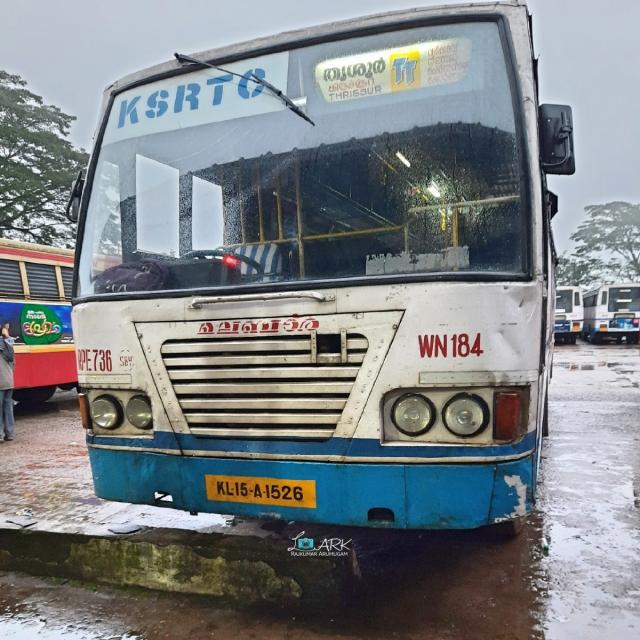bus: (68, 11, 551, 524)
